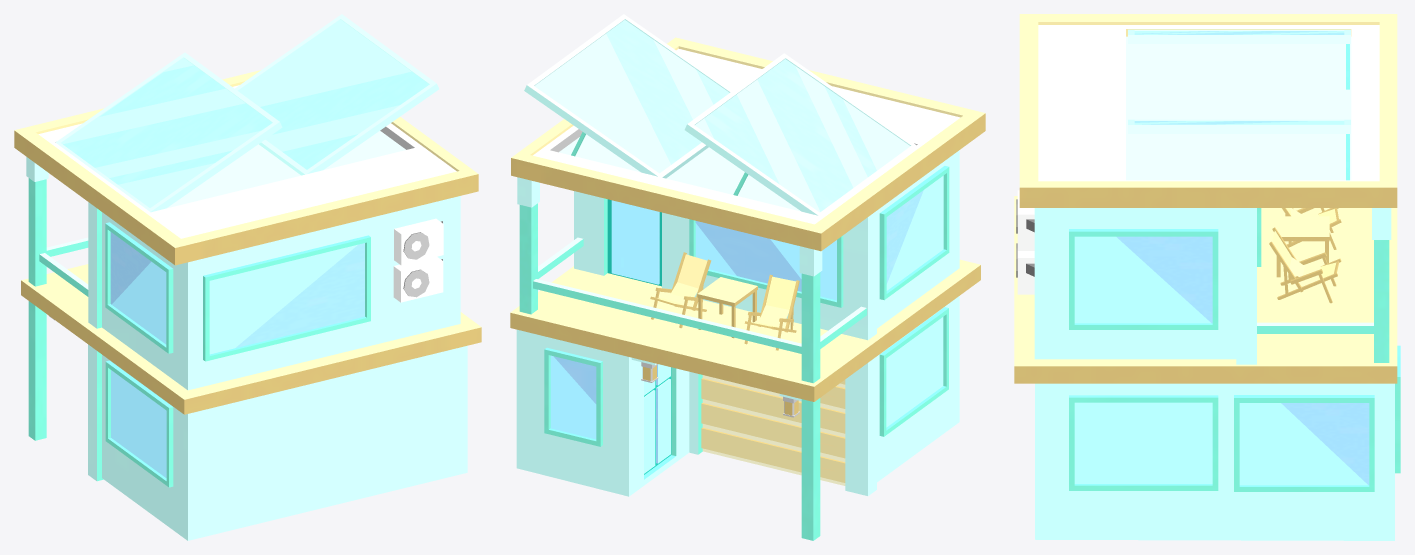
Rendered from dwelling modern.004.glb.
3 renders of one model, left to right at view 1: azimuth 30°, elevation 25°; view 2: azimuth 150°, elevation 25°; view 3: azimuth 270°, elevation 25°, orthographic. The views are drawn at different scales.
Visible parts, largest first — view 1: dwelling modern.004(Clone); view 2: dwelling modern.004(Clone); view 3: dwelling modern.004(Clone).
Boxes of the visible parts, box(x1,y1,x2,y2) form: dwelling modern.004(Clone): box(14, 14, 481, 540); dwelling modern.004(Clone): box(510, 14, 985, 540); dwelling modern.004(Clone): box(1014, 14, 1400, 540).
Size of the model in its own units: 6.54 by 7.28 by 6.01.
Materials: 1 (1 with a texture image).
